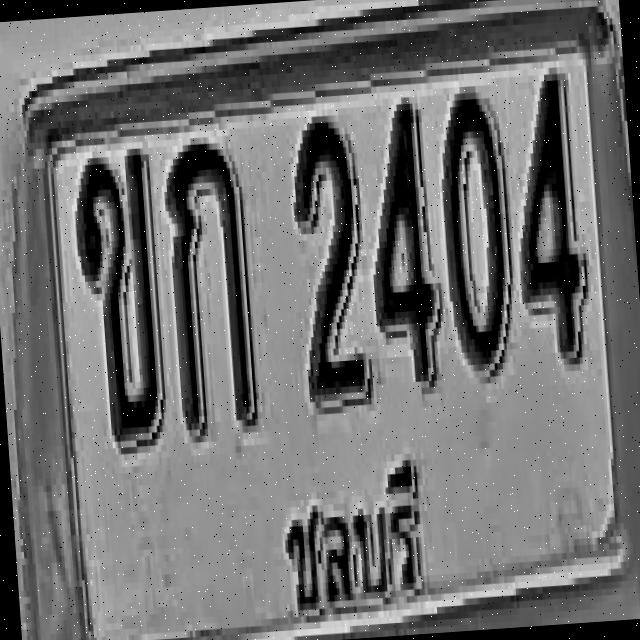0: (435, 87, 516, 369)
10GorGai: (162, 134, 260, 436)
11KhorKhai: (72, 144, 167, 446)
2: (287, 114, 371, 402)
4: (507, 69, 589, 364), (362, 99, 440, 387)
Chonburi: (268, 447, 435, 640)
